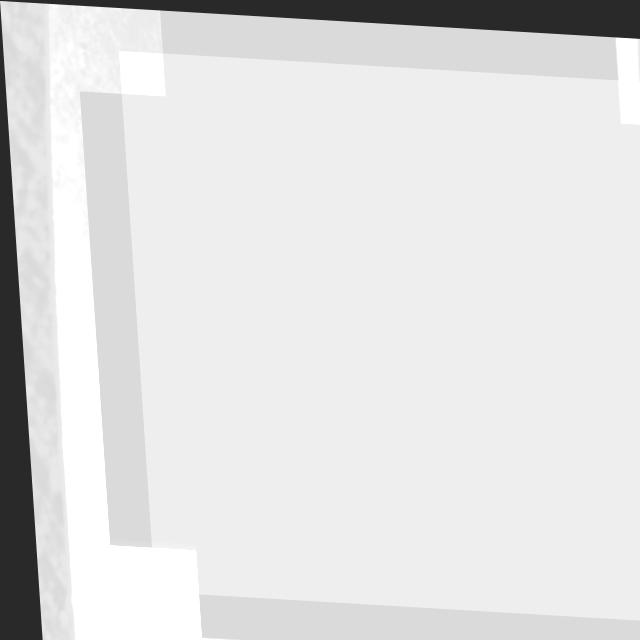qr_code: (118, 48, 640, 614)
